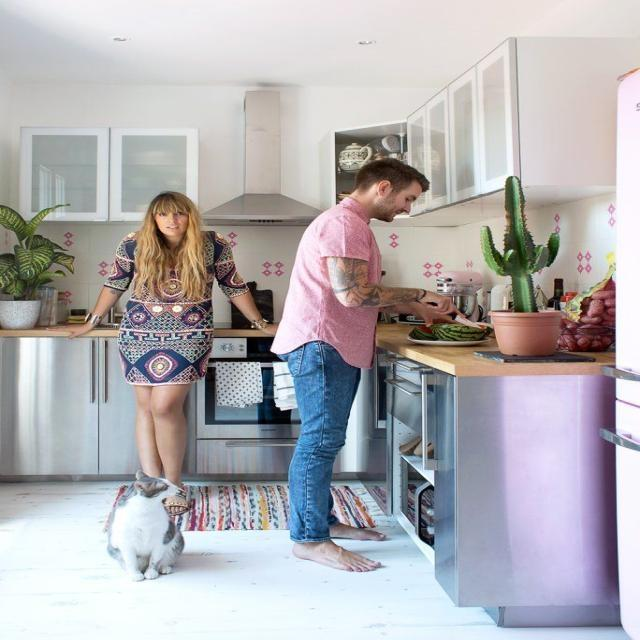obstacle: (374, 320, 618, 626), (18, 124, 199, 223)
person: (268, 156, 468, 572), (44, 190, 278, 515)
